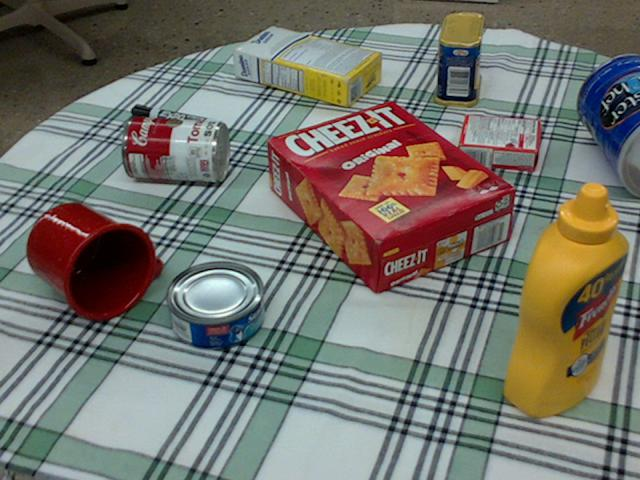cracker_box: (269, 100, 515, 290)
gelatin_box: (456, 115, 537, 168)
large_marker: (130, 104, 220, 133)
master_chef_can: (574, 55, 639, 195)
mug: (25, 202, 158, 319)
mustard_bottle: (505, 180, 629, 415)
potted_meat_can: (433, 12, 483, 106)
sugar_box: (233, 26, 383, 105)
tomato_soup_can: (121, 114, 229, 180)
tuna_fish_can: (163, 260, 263, 349)
